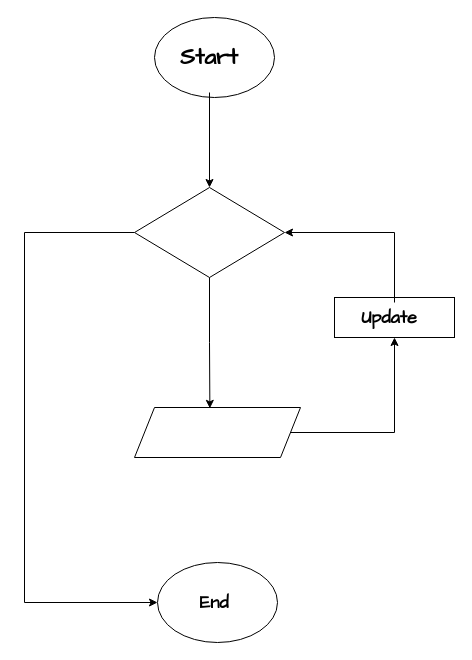
Some shapes in this 472 by 660 pixel diagram are drawn without their labels. The shapes that lost their labels are listed below. From the top down, each one's centre as x and y in pixels, then its label:
At pixel 209 232: "Condition".
At pixel 217 432: "Statement".
